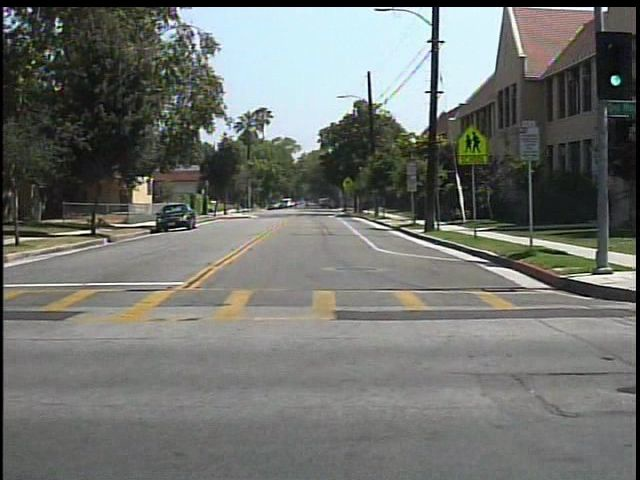person: (301, 196, 315, 213)
